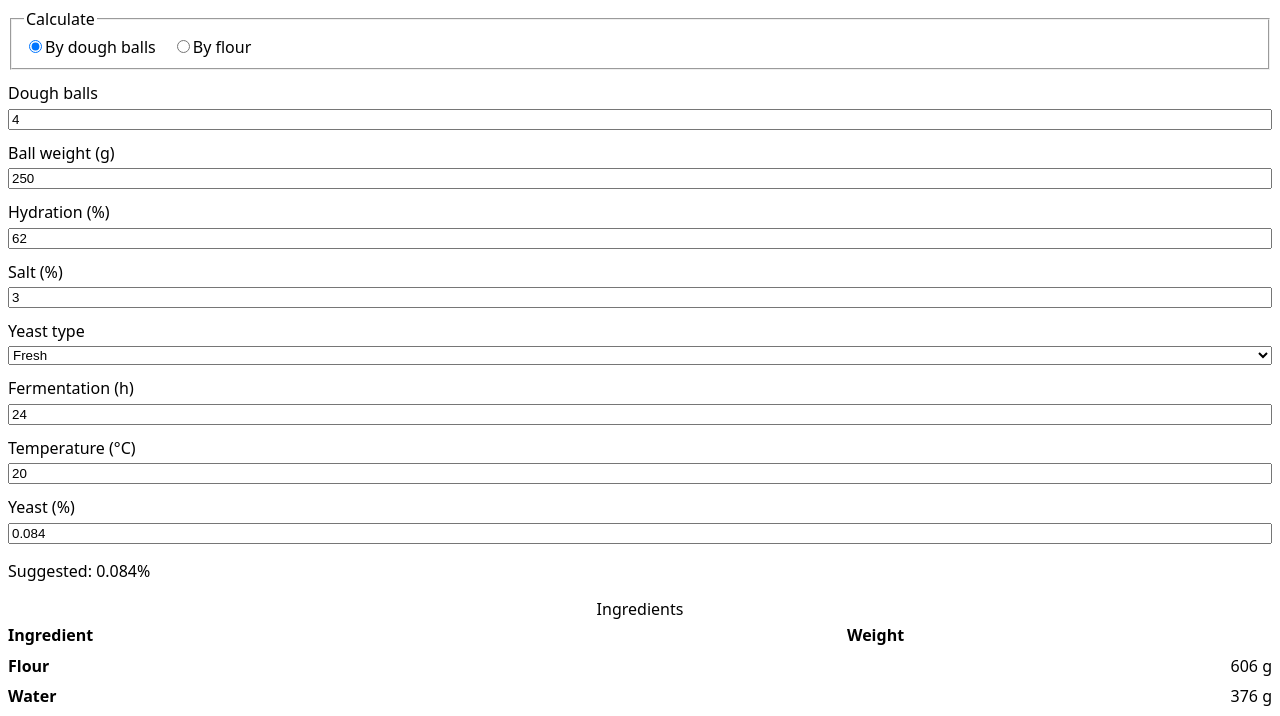
Calculator › yeast › drops an overridden yeast when the yeast type changes
Replace the text in the number field labelled "Yeast (%)" with "0.2". click: (640, 533)
box: [8, 522, 1272, 544]
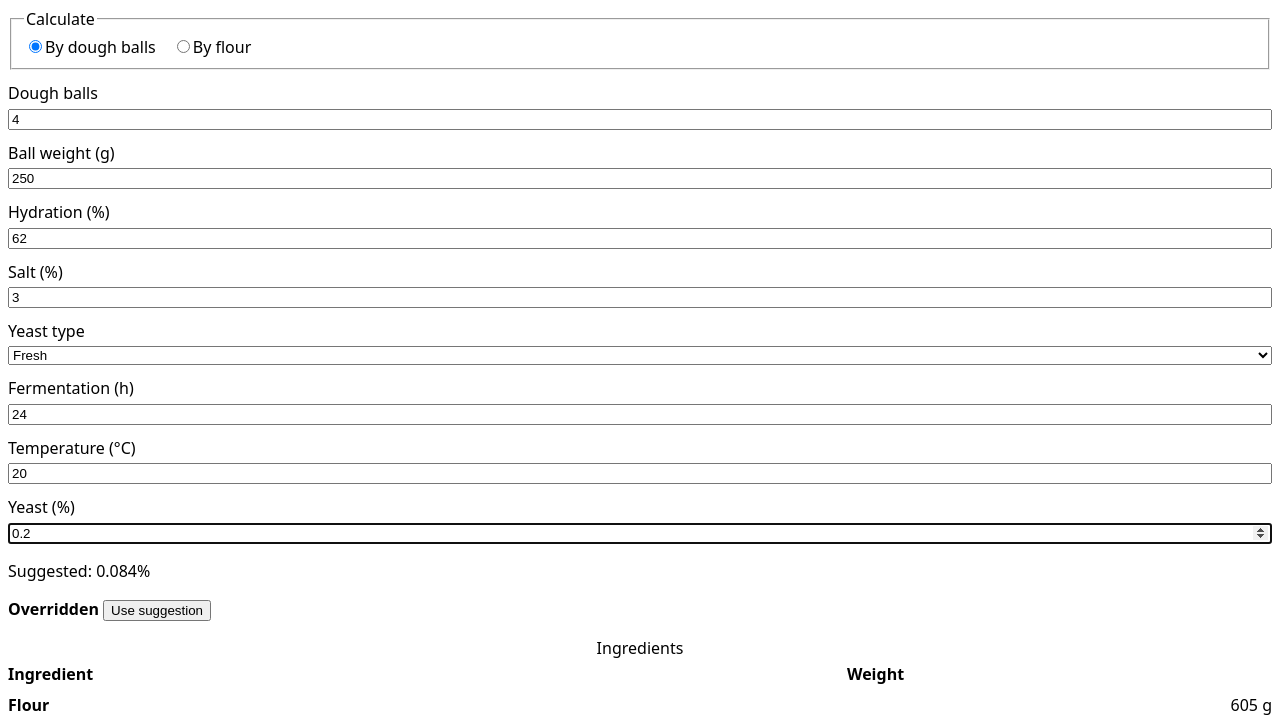
Select "Instant dry" in the dropdown labelled "Yeast type". click: (640, 356)
box: [8, 346, 1272, 365]
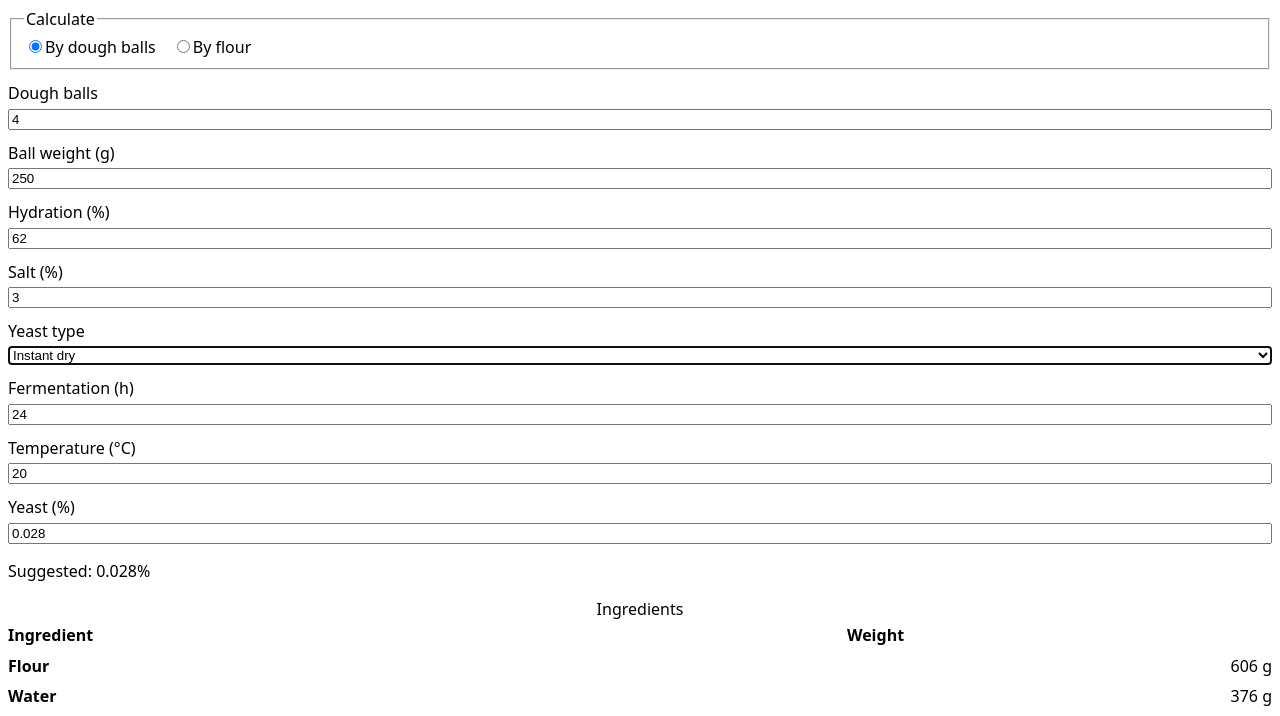
Expected: the number field labelled "Yeast (%)" holds "0.028", [8, 522, 1272, 544]
Expected: the text "Overridden" is gone
